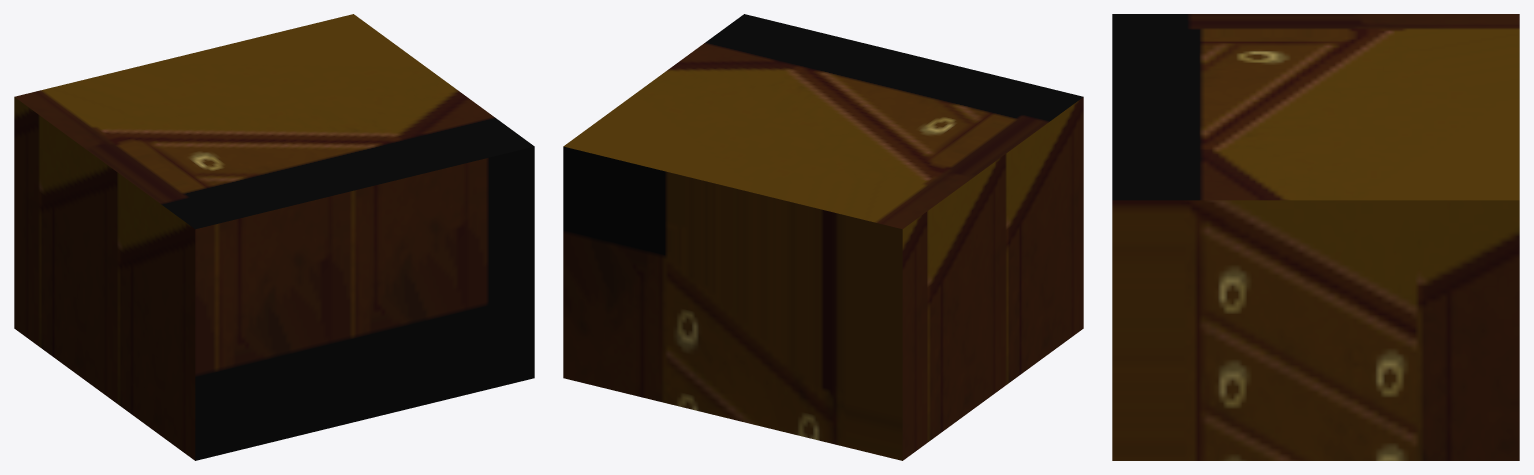
Rendered from pz_house_drawers_oak.obj.
The picture shows the model from 3 angles, left to right: view 1: azimuth 30°, elevation 25°; view 2: azimuth 150°, elevation 25°; view 3: azimuth 270°, elevation 25°; orthographic projection. The views are drawn at different scales.
Visible parts, largest first — view 1: pz_house_drawers_oak_|_1_corpo_gavetas; view 2: pz_house_drawers_oak_|_1_corpo_gavetas; view 3: pz_house_drawers_oak_|_1_corpo_gavetas.
Boxes of the visible parts, x1,y1,x2,y2 form: pz_house_drawers_oak_|_1_corpo_gavetas: [14, 14, 534, 460]; pz_house_drawers_oak_|_1_corpo_gavetas: [563, 14, 1083, 460]; pz_house_drawers_oak_|_1_corpo_gavetas: [1112, 14, 1519, 460].
Bounding box in the file's own units: 0.92 × 0.6 × 0.85.
